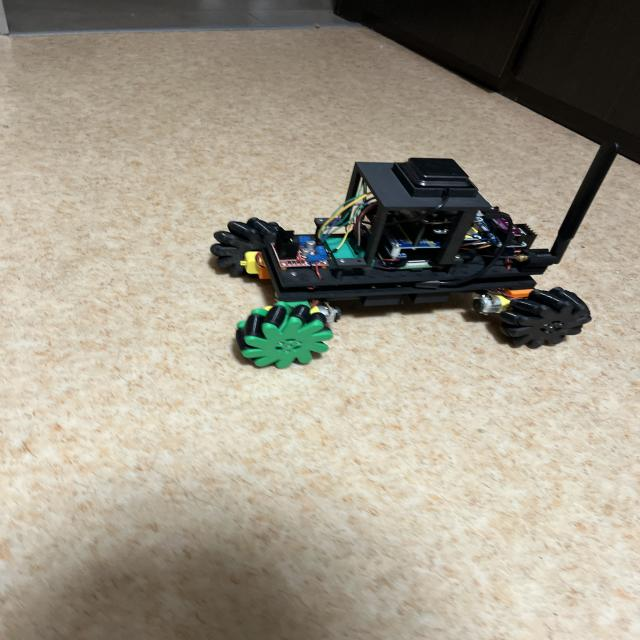robot: (211, 144, 617, 368)
